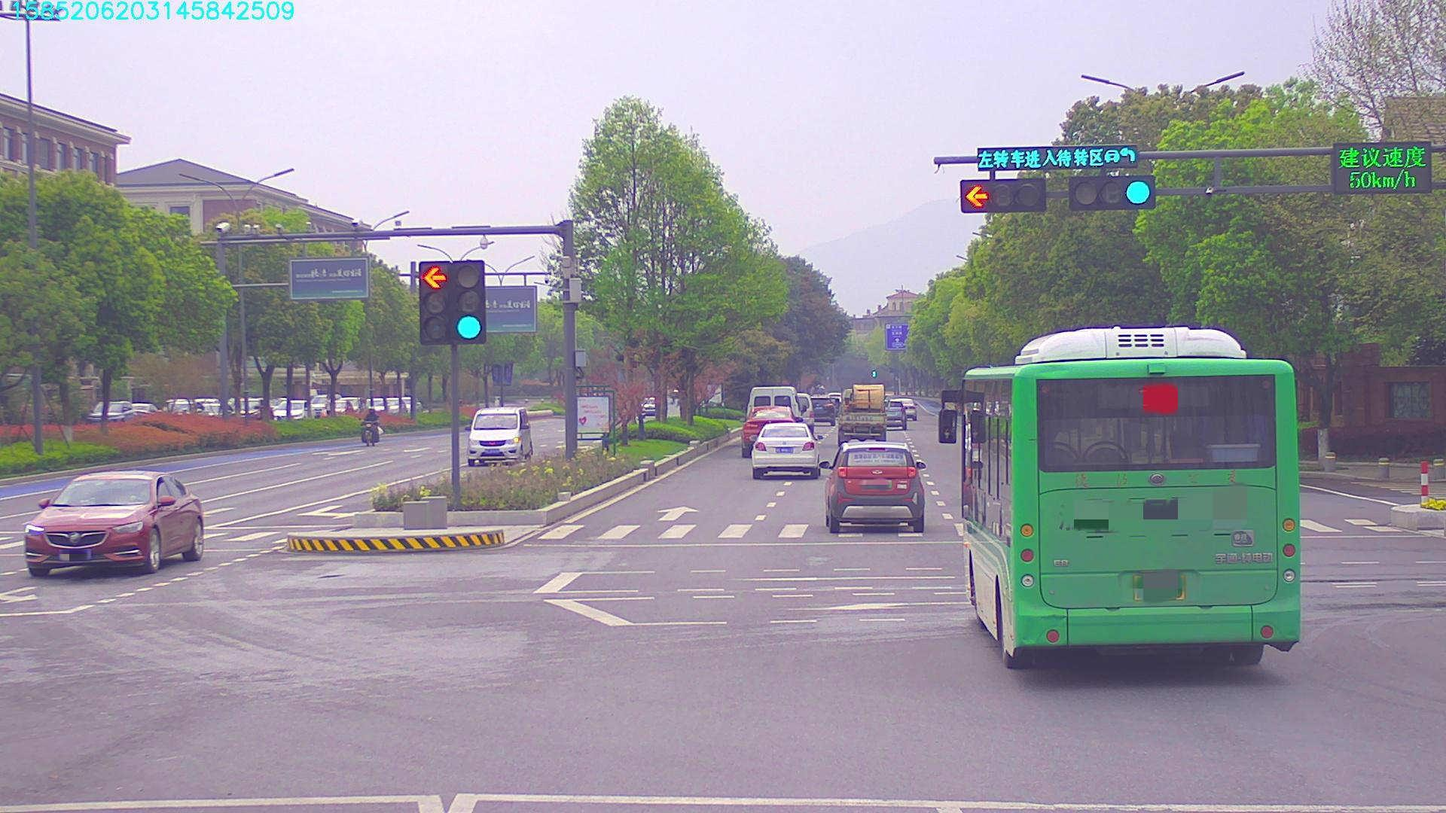green: (1077, 165, 1158, 213)
red: (955, 178, 1044, 213)
wait_on: (981, 144, 1136, 164)
